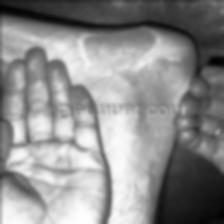Toxin: (78, 26, 192, 73)
